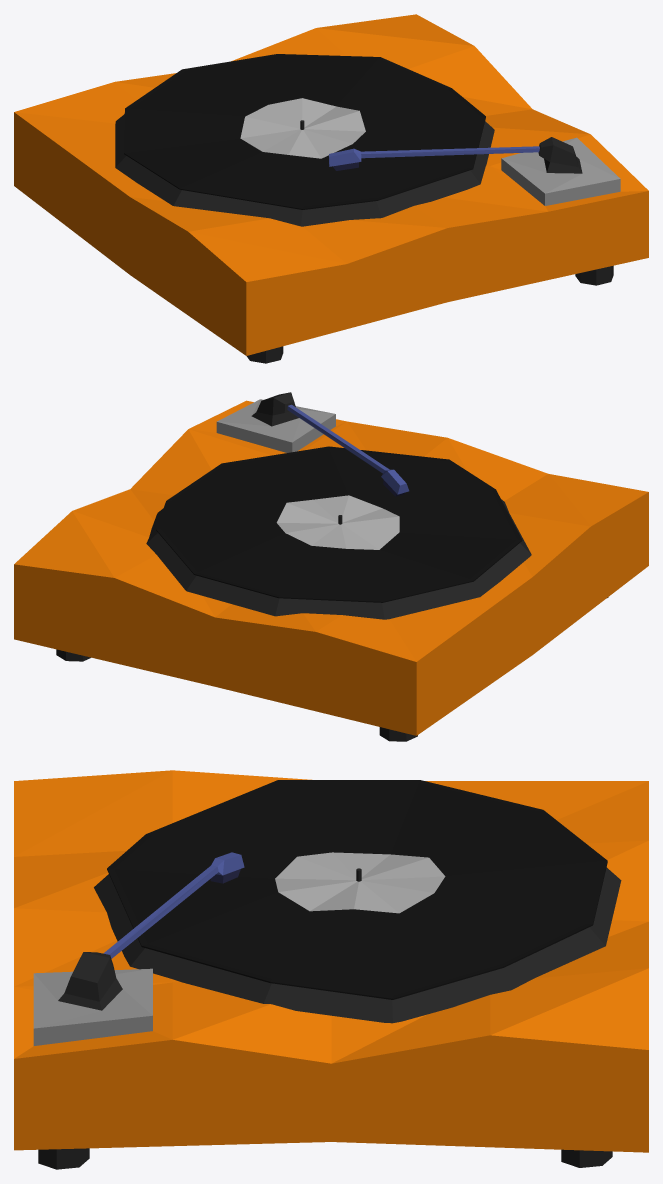
The model's file is record player.fbx.
The picture shows the model from 3 angles, top to bottom: view 1: azimuth 30°, elevation 25°; view 2: azimuth 150°, elevation 25°; view 3: azimuth 270°, elevation 25°; orthographic projection. The views are drawn at different scales.
Parts seen in each view (by area): view 1: vinyl player; view 2: vinyl player; view 3: vinyl player.
Part boxes in pixels (x1,y1,x2,y2): vinyl player: (14, 14, 648, 363); vinyl player: (14, 392, 648, 741); vinyl player: (14, 770, 648, 1169).
Bounding box in the file's own units: 1508 × 482 × 1508.
